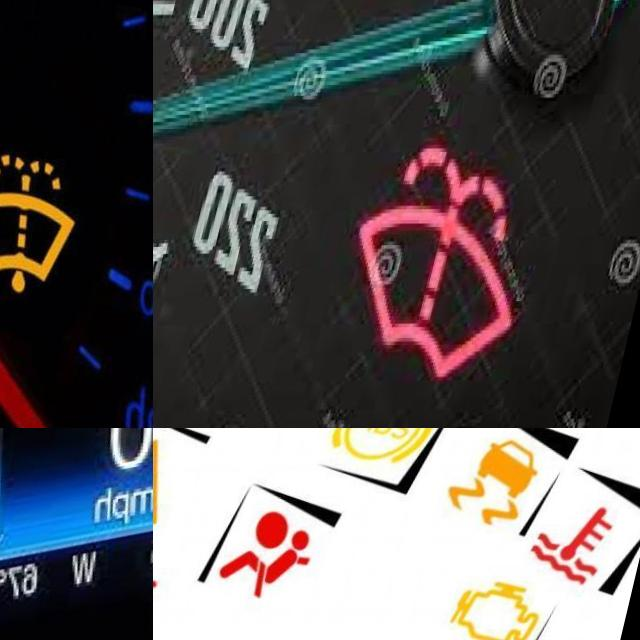Washer Fluid: (352, 144, 570, 378), (0, 155, 97, 290)
